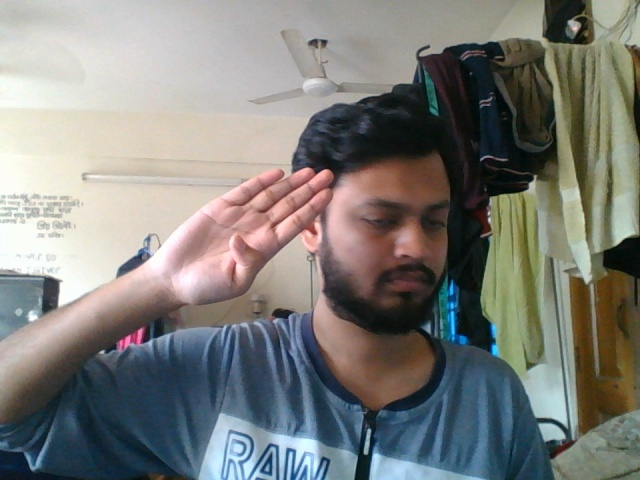salam: (141, 162, 338, 311)
